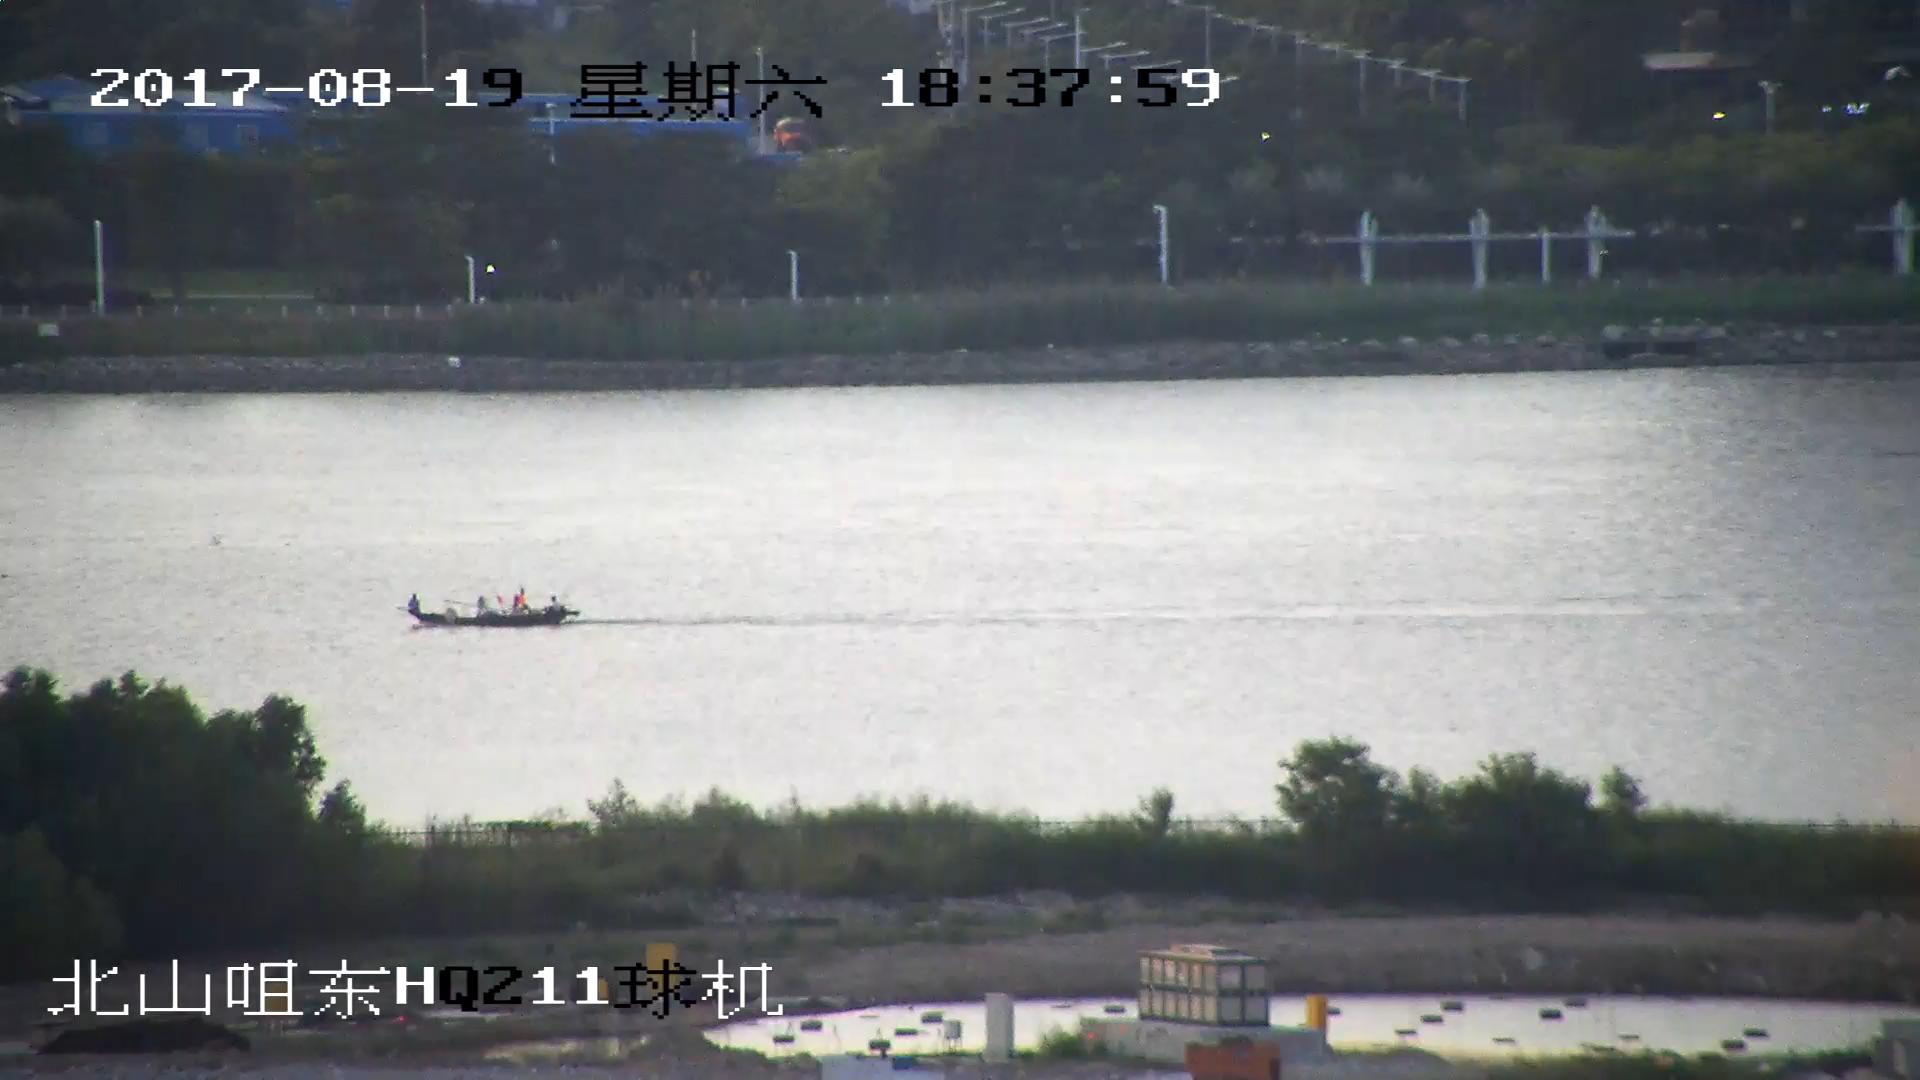fishing boat: (407, 588, 569, 627)
